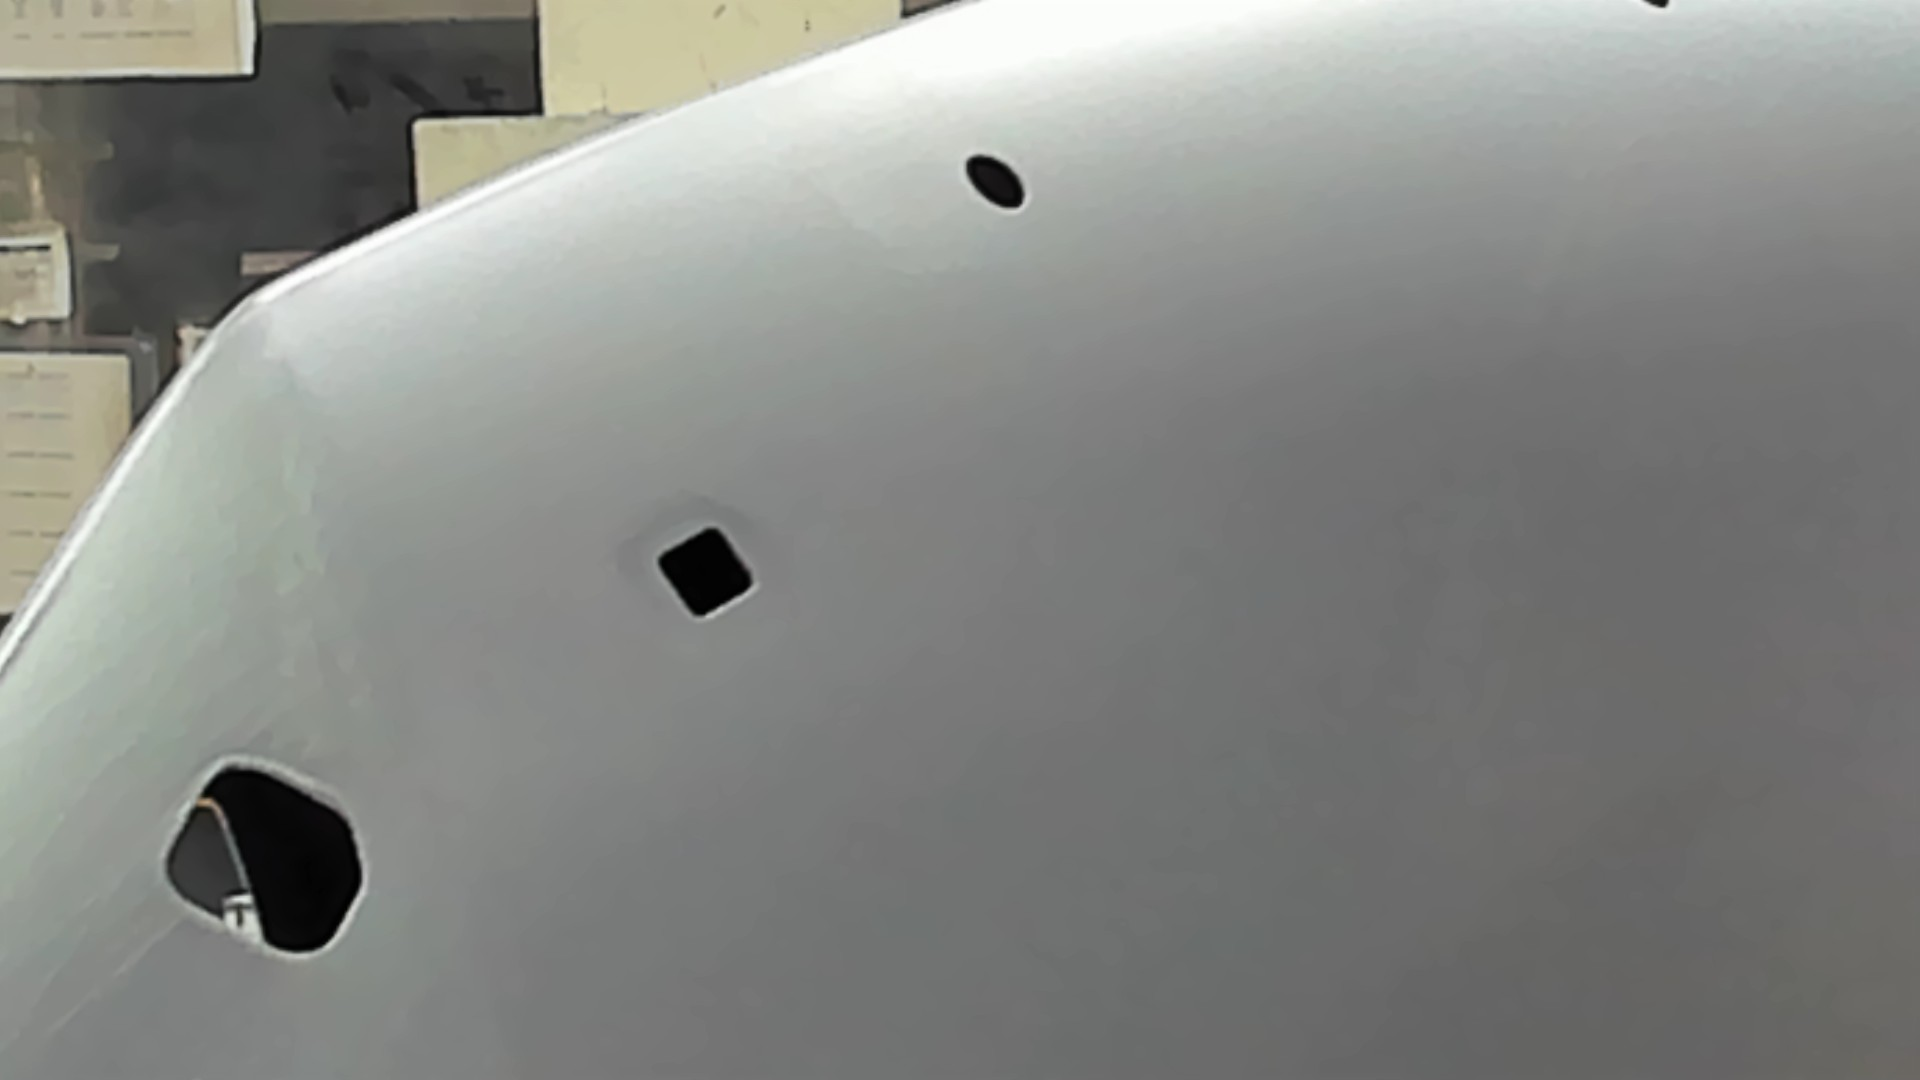chico: (960, 146, 1030, 214)
grande: (156, 745, 375, 968)
mediano: (646, 520, 761, 628)
